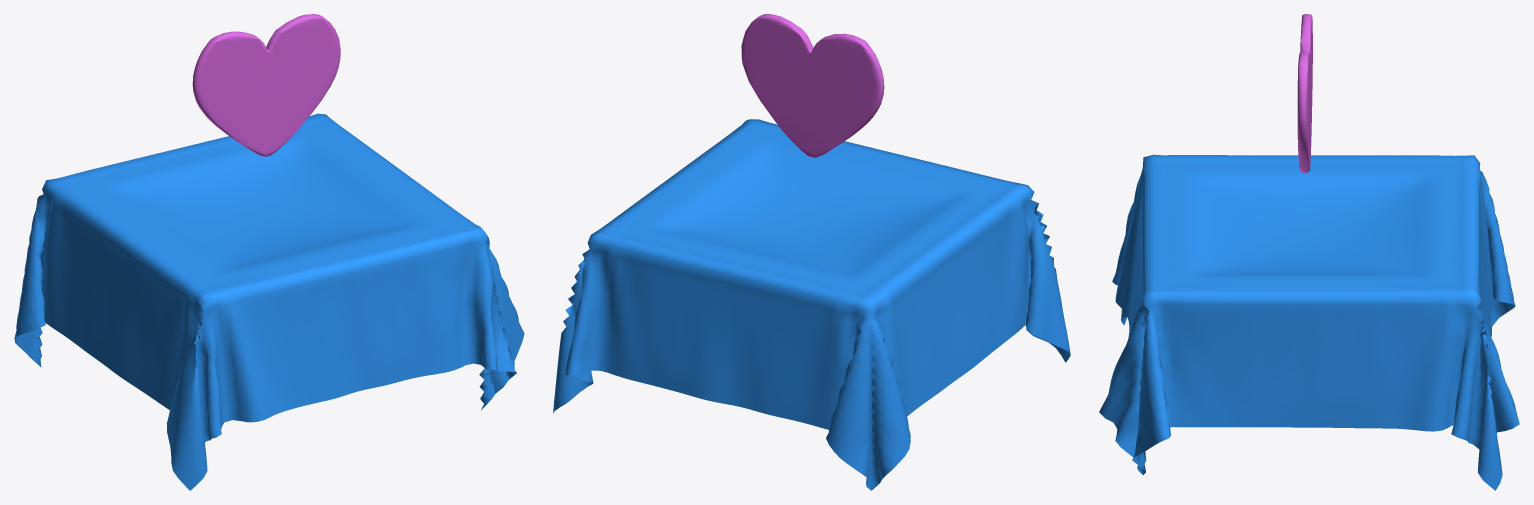
File: hearth.glb
The picture shows the model from 3 angles, left to right: view 1: azimuth 30°, elevation 25°; view 2: azimuth 150°, elevation 25°; view 3: azimuth 270°, elevation 25°; orthographic projection. The views are drawn at different scales.
Parts seen in each view (by area): view 1: Serwetka, Hearth; view 2: Serwetka, Hearth; view 3: Serwetka, Hearth.
Part boxes in pixels (x1,y1,x2,y2): Serwetka: [14, 113, 524, 490]; Hearth: [192, 14, 340, 156]; Serwetka: [553, 119, 1070, 490]; Hearth: [741, 14, 884, 157]; Serwetka: [1099, 154, 1519, 490]; Hearth: [1297, 14, 1312, 173].
Bounding box in the file's own units: 2.64 × 2.57 × 2.58.
